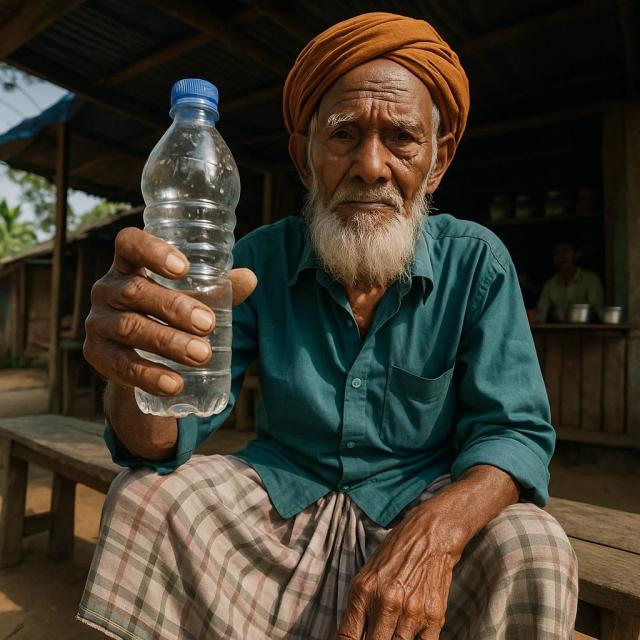plastic: (134, 80, 242, 420)
